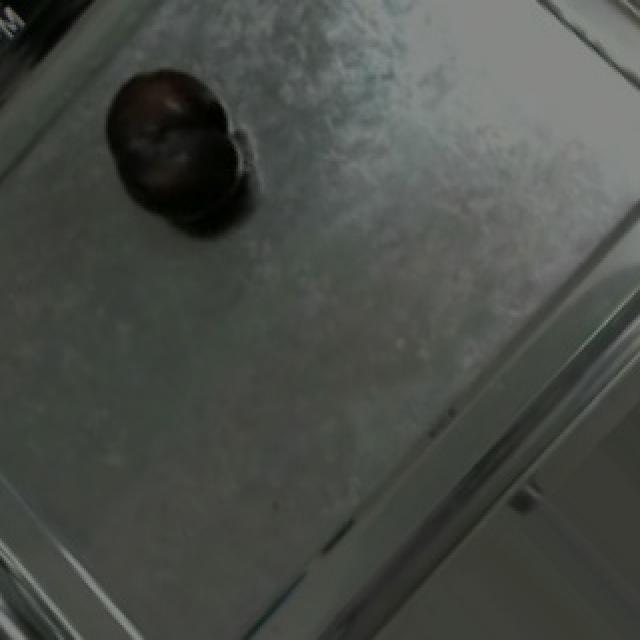Fruit: (86, 47, 254, 233)
